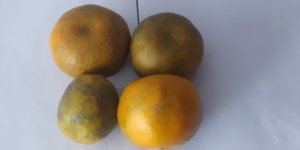BAD: (115, 75, 205, 150), (48, 4, 132, 78), (131, 7, 209, 80), (59, 75, 118, 144)
